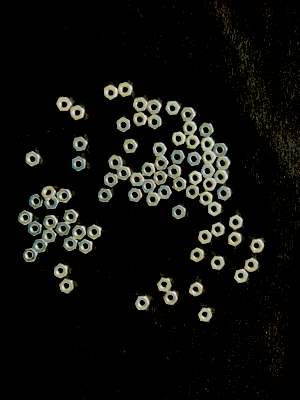nut: (28, 194, 44, 210), (59, 279, 75, 295), (197, 229, 213, 245), (118, 82, 133, 98), (146, 100, 162, 115), (165, 101, 181, 116), (132, 112, 148, 127), (116, 117, 131, 133), (72, 137, 88, 152), (122, 139, 138, 154), (25, 151, 40, 167), (71, 156, 86, 172), (108, 155, 123, 171), (141, 162, 156, 178), (127, 188, 143, 203), (172, 177, 187, 193), (41, 186, 57, 201), (56, 189, 72, 204), (18, 210, 33, 226), (63, 209, 79, 224), (43, 215, 59, 230), (28, 221, 43, 237), (71, 225, 87, 240), (32, 239, 48, 254), (22, 248, 38, 263), (249, 239, 265, 254), (134, 296, 150, 311), (70, 106, 85, 121), (133, 97, 148, 112), (199, 123, 214, 138), (185, 135, 200, 150), (213, 143, 228, 158), (187, 152, 202, 167), (153, 171, 168, 186), (188, 171, 203, 186), (217, 186, 232, 201), (42, 229, 57, 244), (63, 237, 78, 252), (53, 264, 68, 279), (227, 232, 242, 247), (244, 258, 259, 273), (234, 269, 249, 284), (198, 308, 213, 323), (56, 98, 72, 112), (104, 85, 118, 101), (180, 108, 196, 122), (172, 131, 186, 147), (215, 157, 231, 171), (104, 172, 118, 188), (97, 189, 113, 203), (129, 173, 145, 187), (211, 222, 225, 238), (148, 115, 162, 130), (200, 138, 215, 152), (152, 143, 167, 157), (202, 151, 217, 165), (117, 166, 131, 181), (154, 157, 169, 171), (168, 164, 182, 179), (201, 164, 216, 178), (185, 185, 199, 200), (157, 186, 172, 200), (146, 193, 161, 207), (172, 205, 186, 220), (199, 191, 213, 206), (208, 202, 222, 217), (56, 222, 71, 236), (87, 225, 101, 240), (229, 215, 243, 230), (190, 248, 204, 263), (210, 256, 225, 270), (189, 282, 203, 297), (157, 278, 172, 292), (163, 291, 178, 305), (182, 122, 198, 135), (169, 151, 185, 164), (141, 180, 157, 193), (213, 171, 229, 184), (202, 178, 217, 191), (44, 197, 59, 210), (79, 241, 93, 254)
